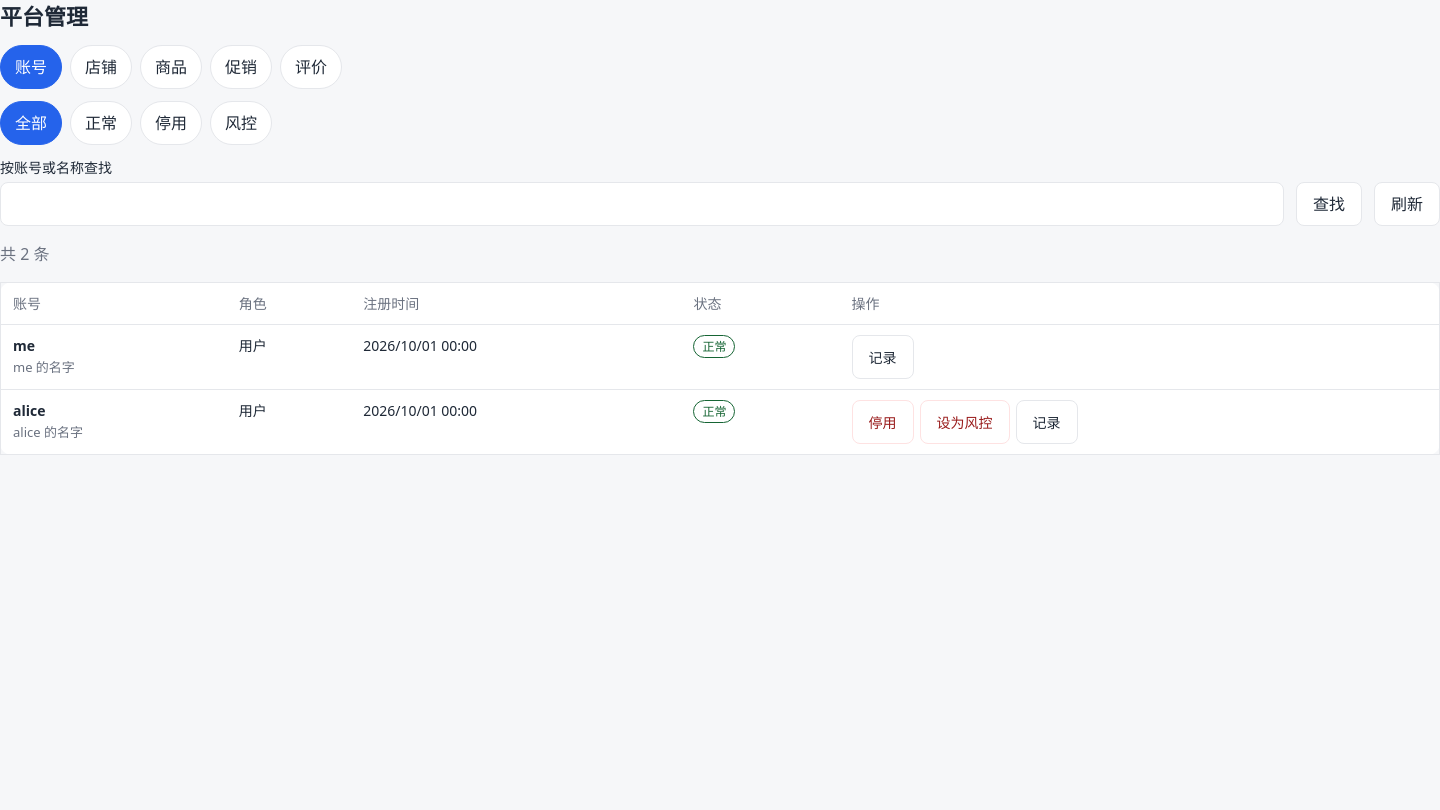
Test: 平台管理 › 自己的账号没有状态操作；风控要写原因，提交的请求带上原因
The width and height of the screenshot is (1440, 810).
Step 1. Click the button with aria-label "设为风控 alice" → click(965, 422), box [920, 400, 1010, 444]
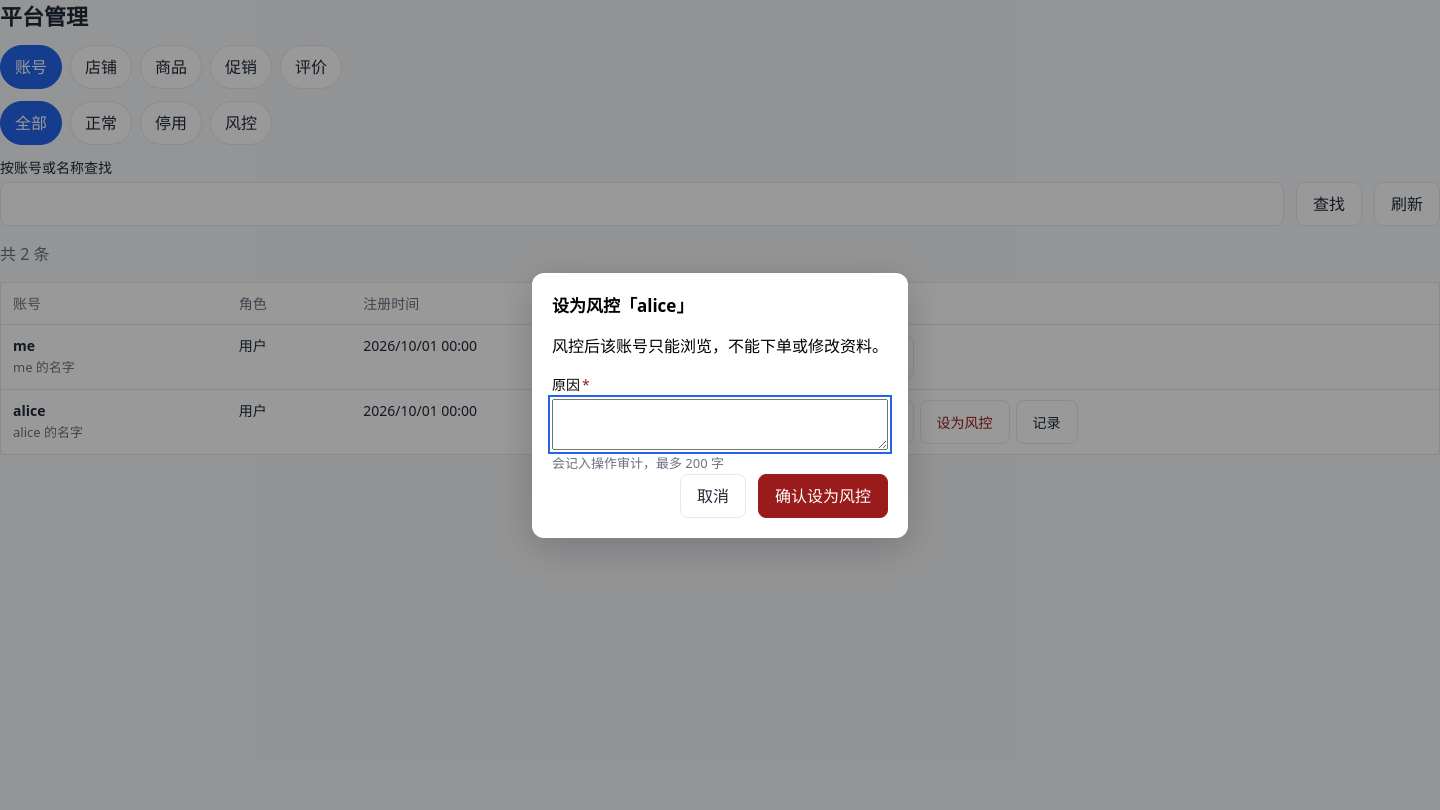
Check: the dialog shows "风控后该账号只能浏览", box [552, 335, 888, 357]
Step 2. Click the button "确认设为风控" → click(823, 496), box [758, 474, 888, 518]
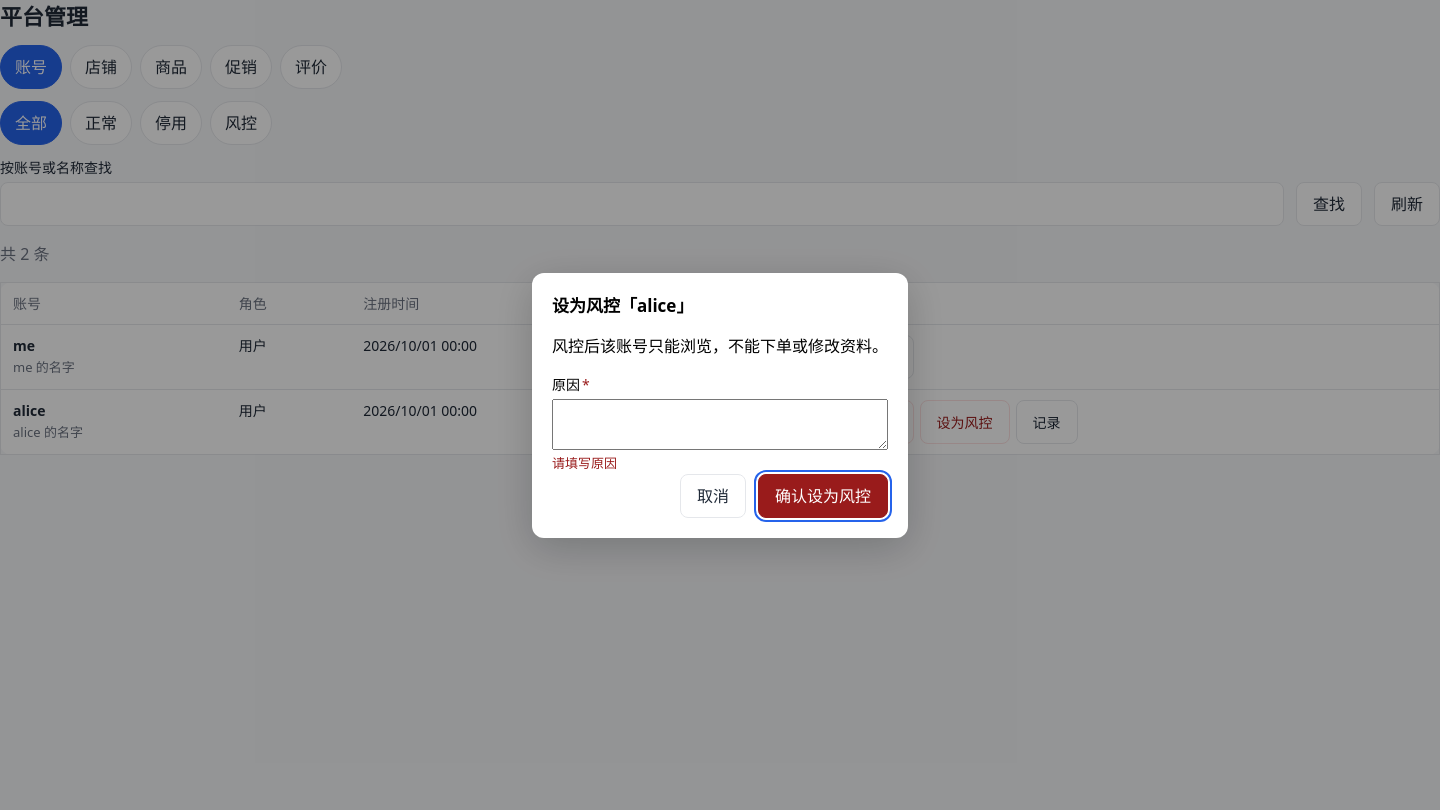
Check: the text "请填写原因" is shown, box [552, 454, 617, 472]
Step 3. Type "疑似刷单" into the text box labelled "原因*" → (720, 424), box [552, 399, 888, 450]
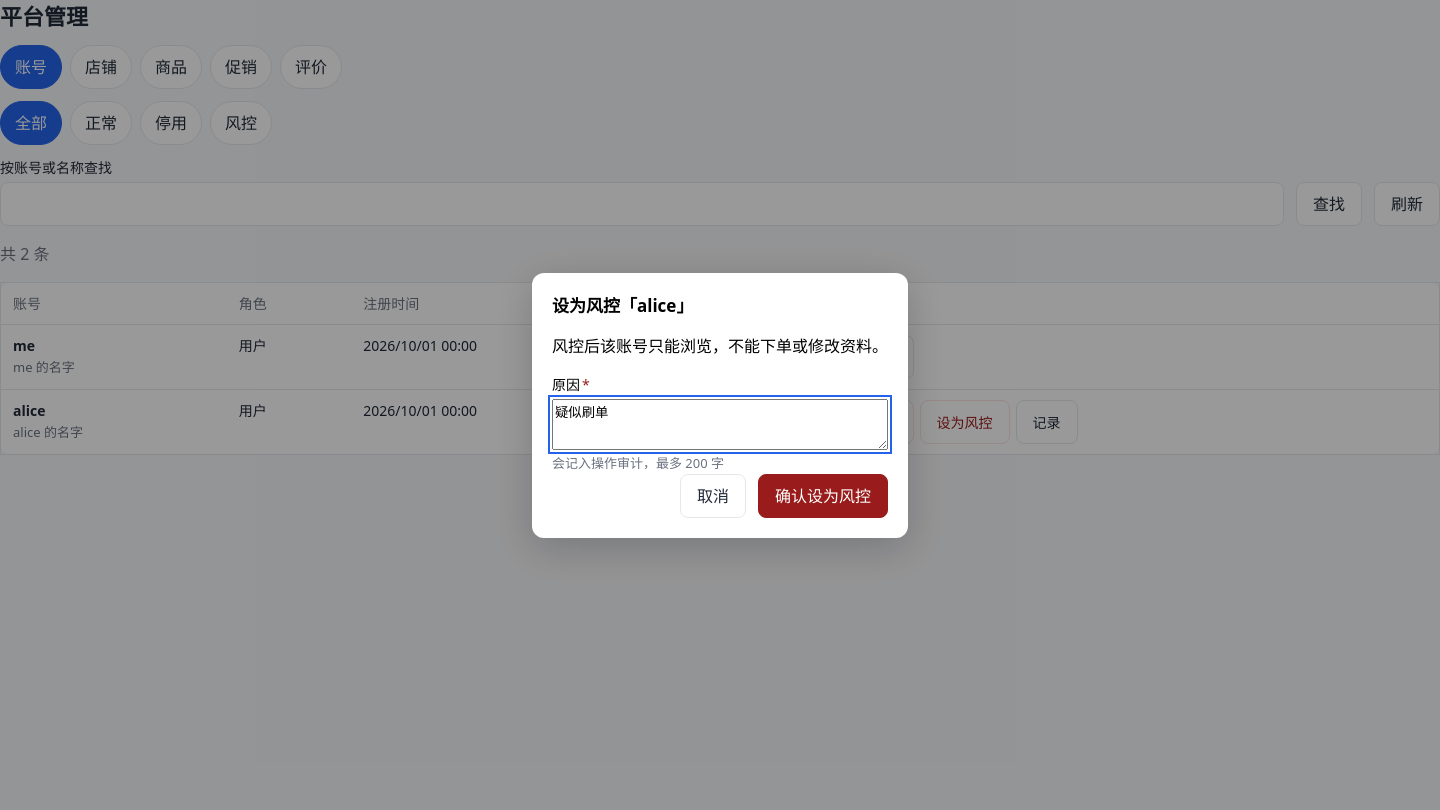
Step 4. Click the button "确认设为风控" → click(823, 496), box [758, 474, 888, 518]
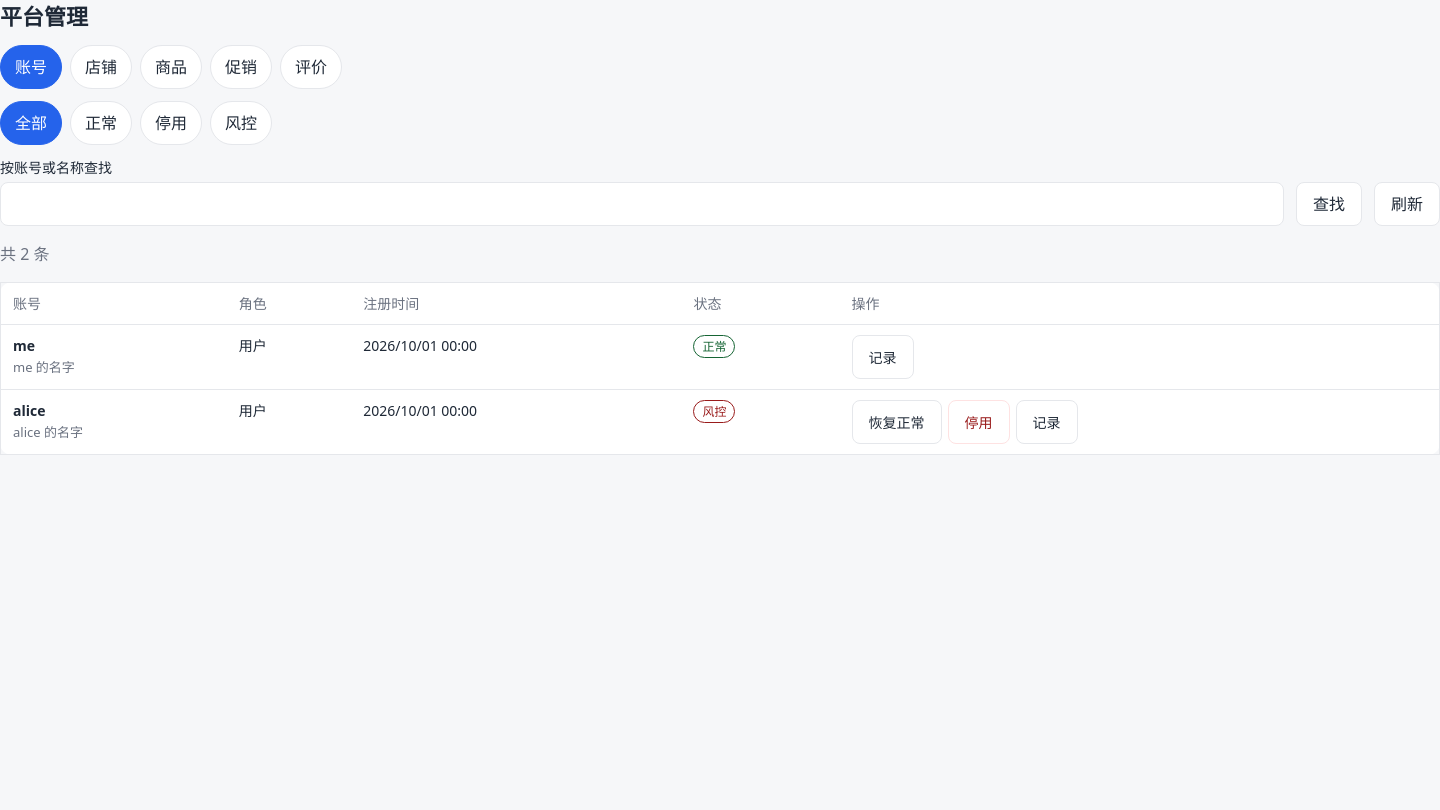
Check: the text "风控" is shown, box [694, 400, 736, 423]
